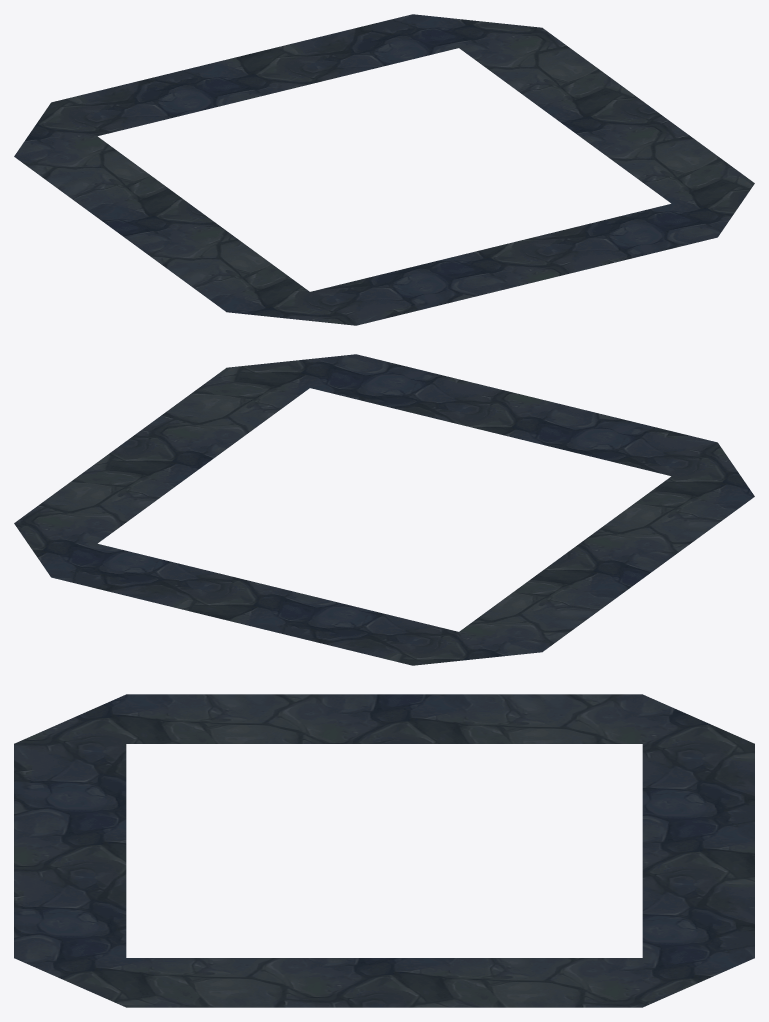
The model's file is sn_jiguan_baseframe_002.FBX.
The picture shows the model from 3 angles, top to bottom: view 1: azimuth 30°, elevation 25°; view 2: azimuth 150°, elevation 25°; view 3: azimuth 270°, elevation 25°; orthographic projection. The views are drawn at different scales.
Visible parts, largest first — view 1: sn_jiguan_terrain_002; view 2: sn_jiguan_terrain_002; view 3: sn_jiguan_terrain_002.
Part boxes in pixels (box(x1,y1,x2,y2)): sn_jiguan_terrain_002: box(14, 14, 754, 325); sn_jiguan_terrain_002: box(14, 354, 754, 665); sn_jiguan_terrain_002: box(14, 694, 754, 1007).
Bounding box in the file's own units: 1800 × 0 × 1800.
